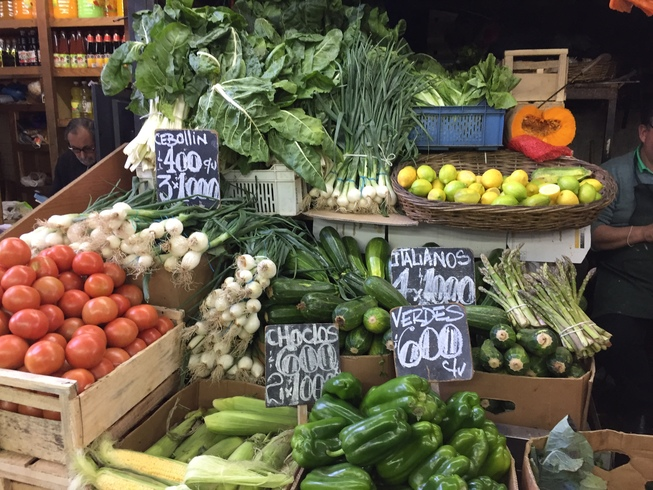precio: (388, 304, 476, 387), (265, 316, 346, 406), (389, 246, 485, 313), (151, 127, 222, 208)
